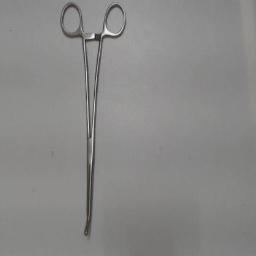Lahey Forceps: (57, 2, 131, 236)
